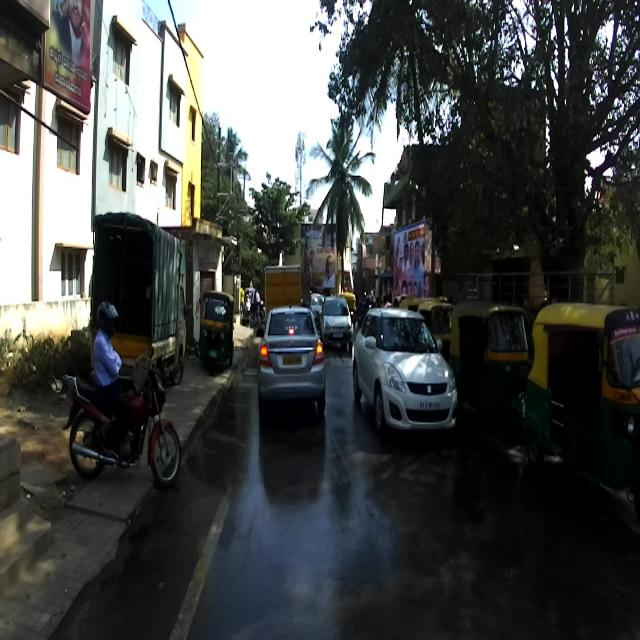autorickshaw: (525, 302, 639, 516), (449, 299, 529, 439), (199, 290, 234, 377)
car: (351, 307, 457, 438), (256, 303, 326, 416), (319, 295, 353, 349)
motorcycle: (62, 345, 182, 488)
